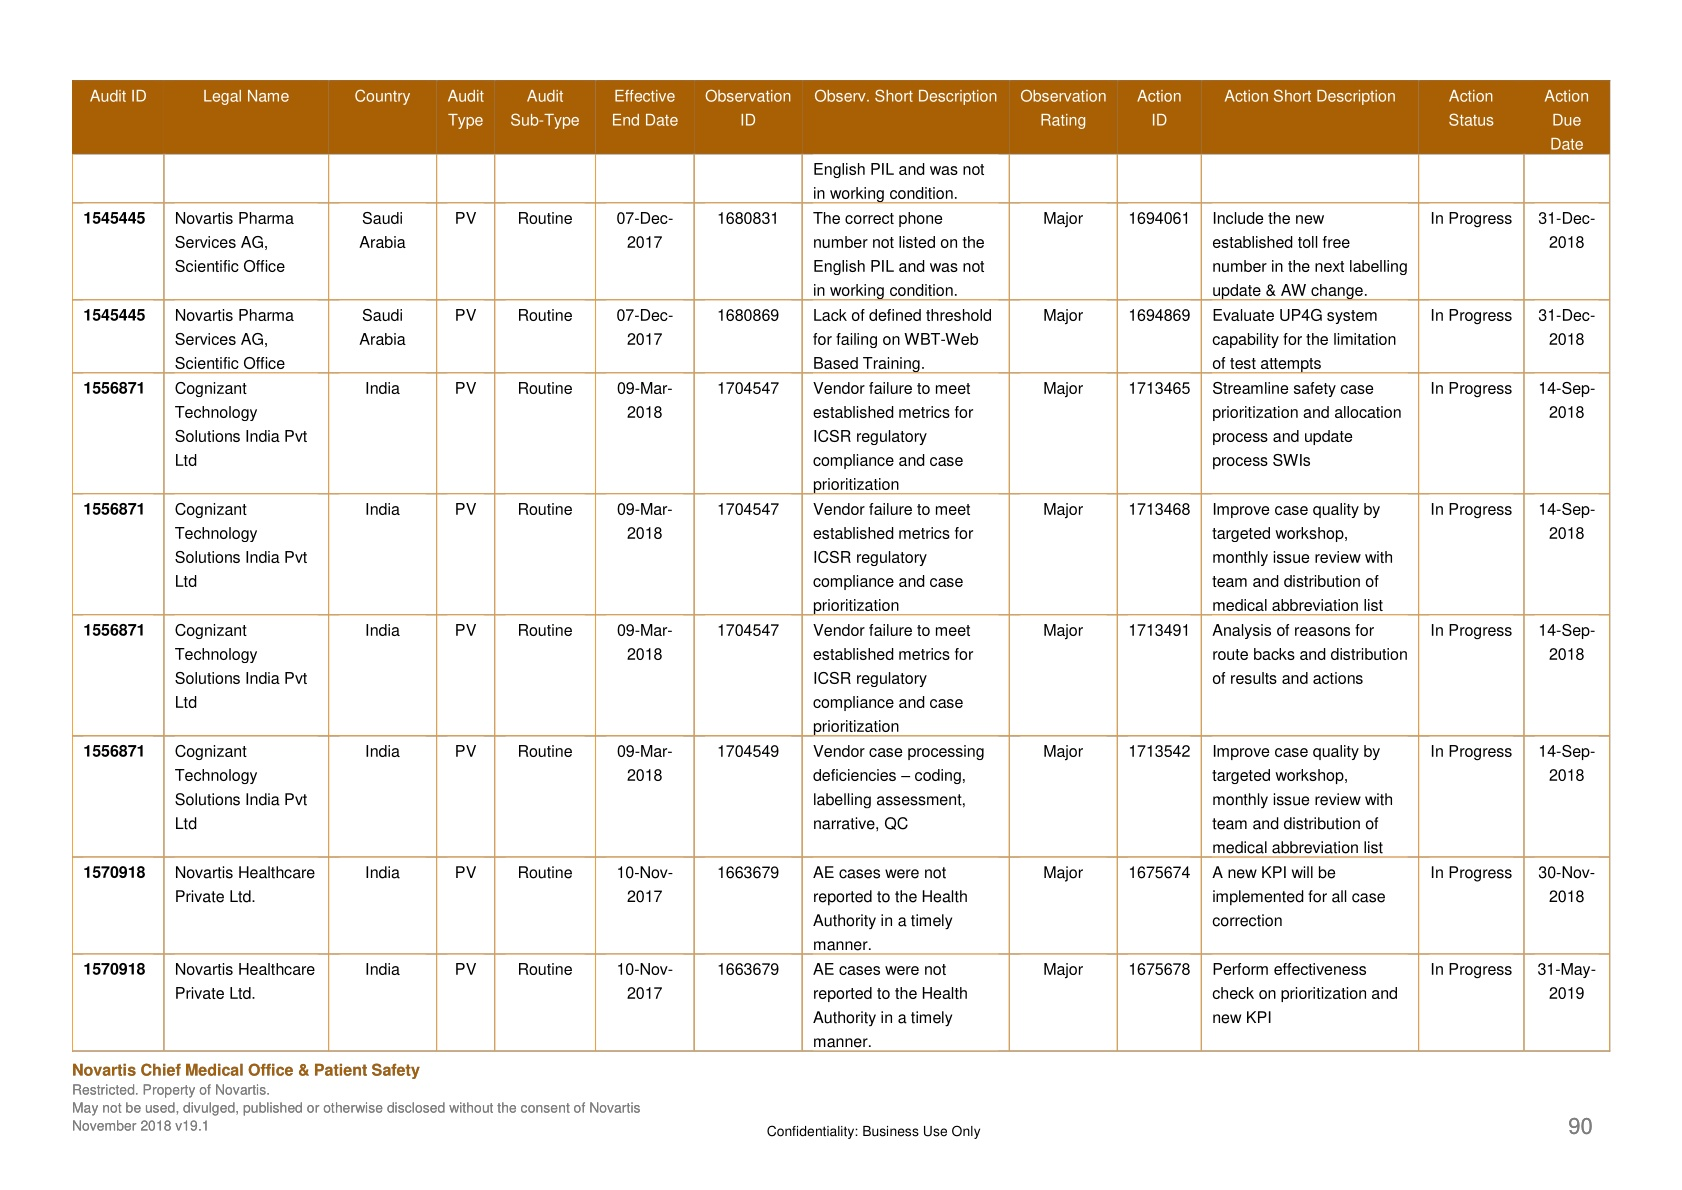full_lined: (71, 79, 1611, 1052)
